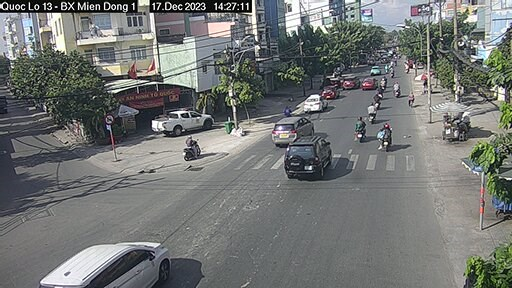car: (47, 242, 171, 288), (286, 138, 335, 179), (148, 110, 216, 135), (267, 117, 315, 142), (303, 96, 329, 116), (318, 86, 343, 101), (361, 77, 376, 91), (344, 75, 359, 88), (368, 68, 381, 76)
motorbike: (182, 136, 205, 162), (376, 121, 394, 151), (352, 114, 368, 142), (364, 103, 377, 122)
